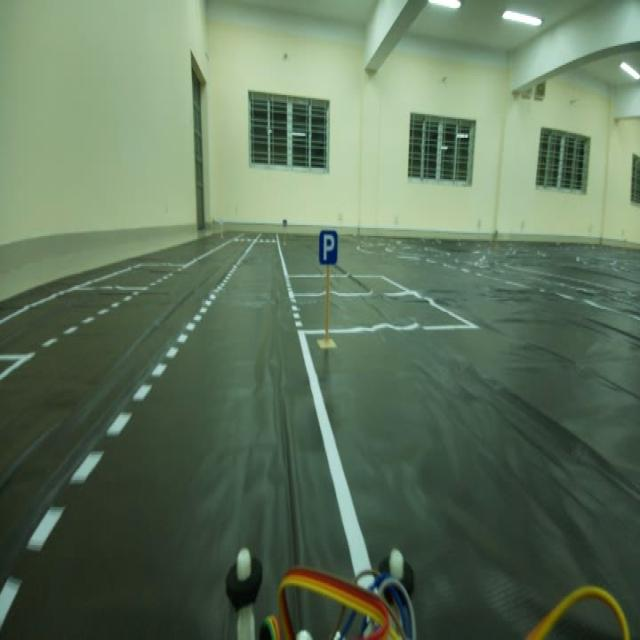parking: (314, 223, 344, 268)
